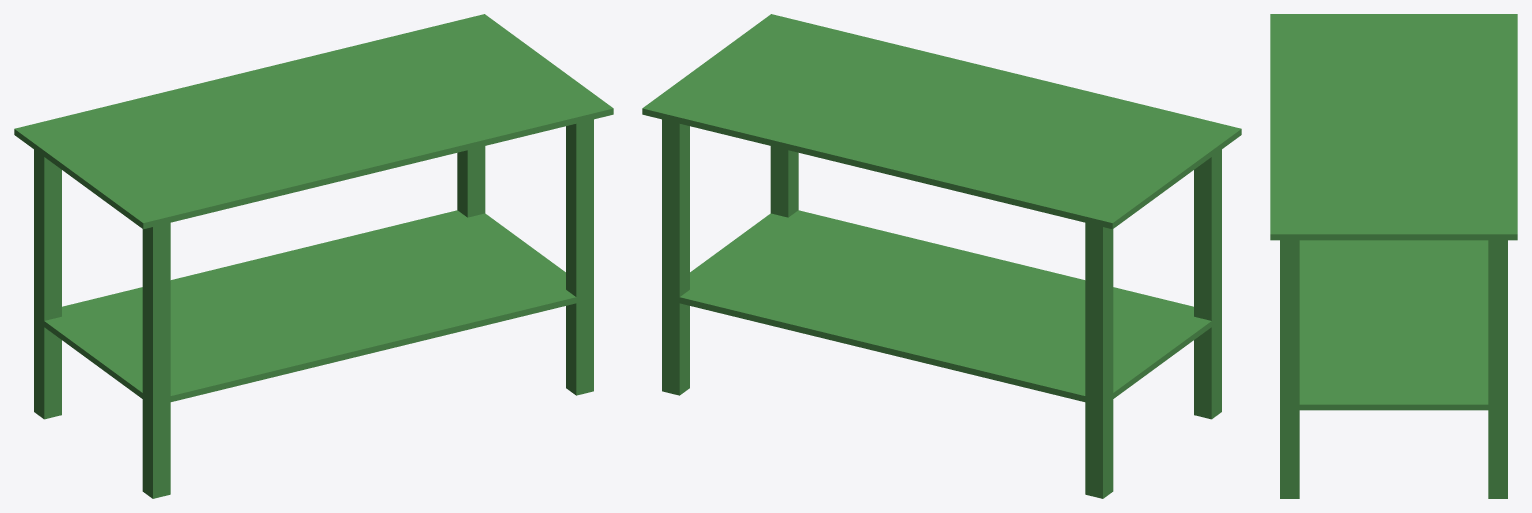
File: mesa.glb
3 views of the same model, side by side, from view 1: azimuth 30°, elevation 25°; view 2: azimuth 150°, elevation 25°; view 3: azimuth 270°, elevation 25° (orthographic). The views are drawn at different scales.
Parts seen in each view (by area): view 1: Asset3DLoader.sceneRoot; view 2: Asset3DLoader.sceneRoot; view 3: Asset3DLoader.sceneRoot.
Part boxes in pixels (left/top/right/bottom): Asset3DLoader.sceneRoot: left=14, top=14, right=613, bottom=498; Asset3DLoader.sceneRoot: left=642, top=14, right=1241, bottom=498; Asset3DLoader.sceneRoot: left=1270, top=14, right=1517, bottom=498.
Bounding box in the file's own units: 1600 × 920 × 760.
